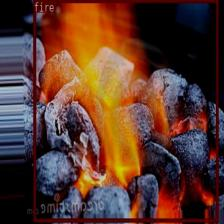fire: (32, 0, 218, 222)
